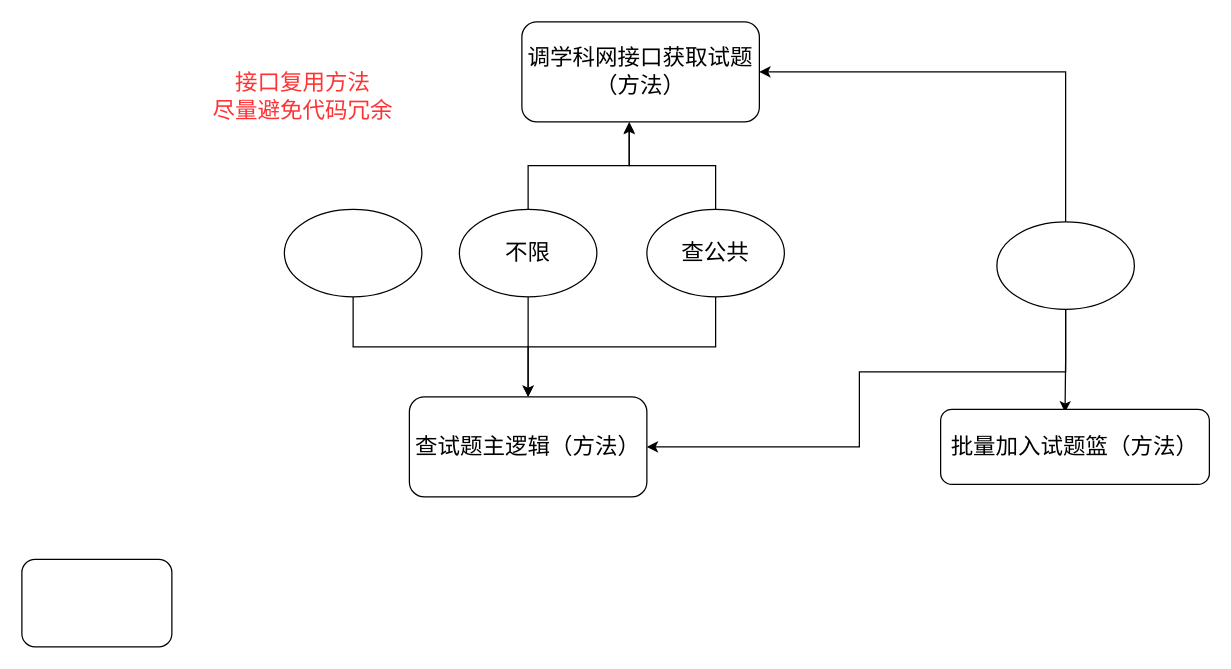
Some shapes in this 1231 by 669 pixel diagram are drawn without their labels. Each missing label, with the centre of its shape:
"查校本" goes at (352,252).
"系统组卷 （不分页）" goes at (1065,265).
"题型：extra4 难度：extra3 课程：extra3" goes at (96,602).
